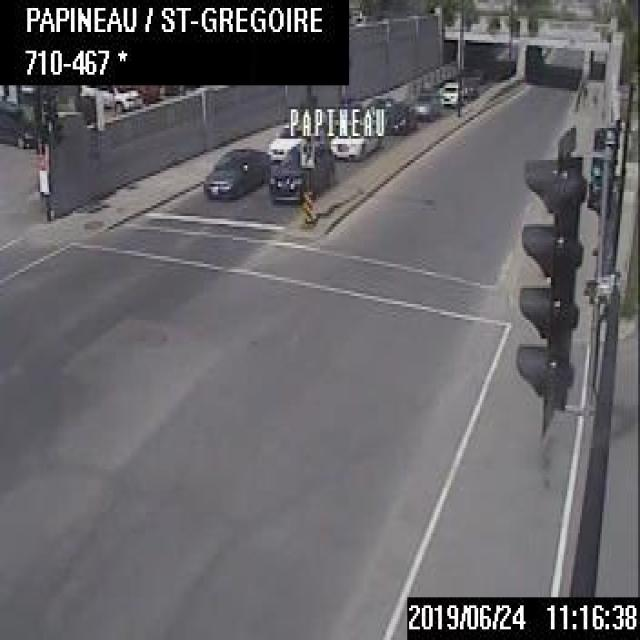vehicle: (268, 139, 334, 203), (202, 143, 269, 200), (328, 120, 379, 161), (79, 83, 144, 112), (0, 98, 38, 146), (267, 120, 305, 160), (379, 100, 414, 134), (413, 86, 440, 120), (439, 79, 461, 106)
